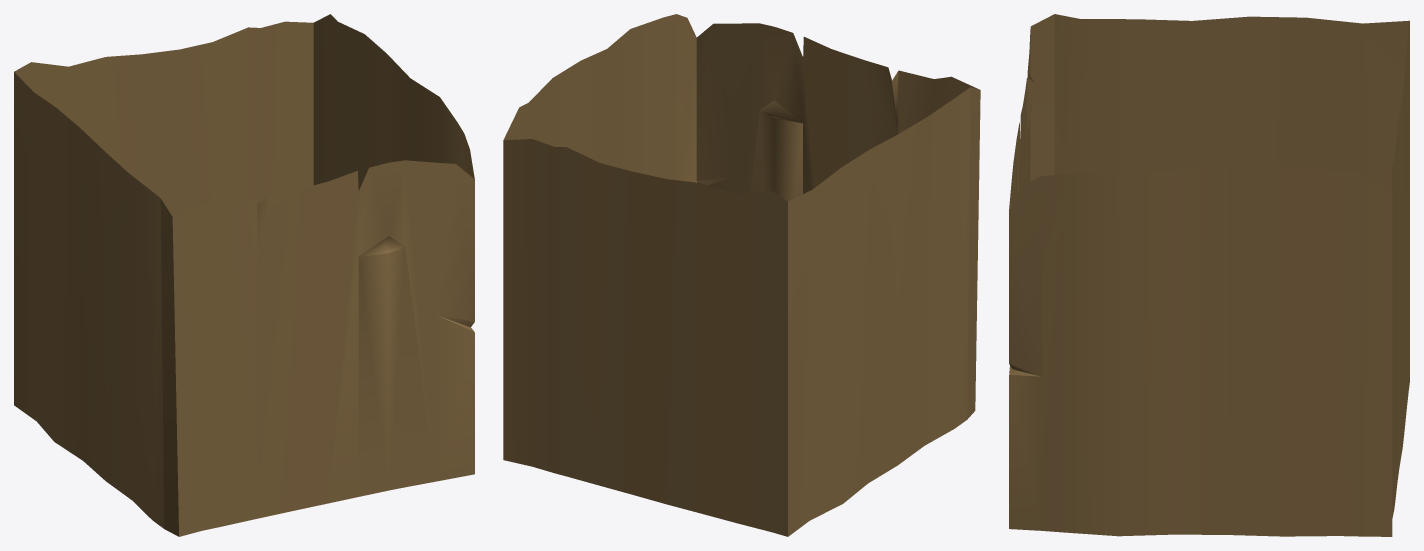
File: 1map ston wall.FBX
3 views of the same model, side by side, from view 1: azimuth 30°, elevation 25°; view 2: azimuth 150°, elevation 25°; view 3: azimuth 270°, elevation 25° (orthographic). The views are drawn at different scales.
Visible parts, largest first — view 1: ston wall001; view 2: ston wall001; view 3: ston wall001.
Boxes of the visible parts, left/top/right/bottom form: ston wall001: left=14, top=14, right=474, bottom=536; ston wall001: left=503, top=14, right=980, bottom=536; ston wall001: left=1009, top=14, right=1409, bottom=536.
Size of the model in its own units: 40.51 by 42.89 by 41.89.
